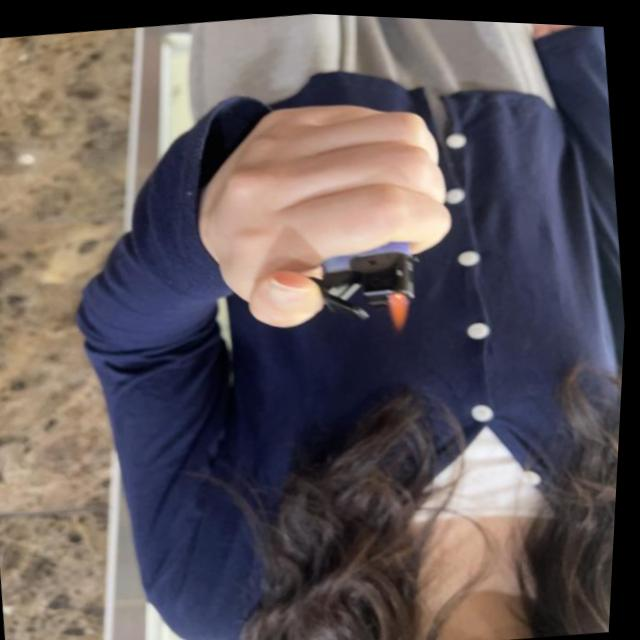Fire: (387, 285, 418, 327)
